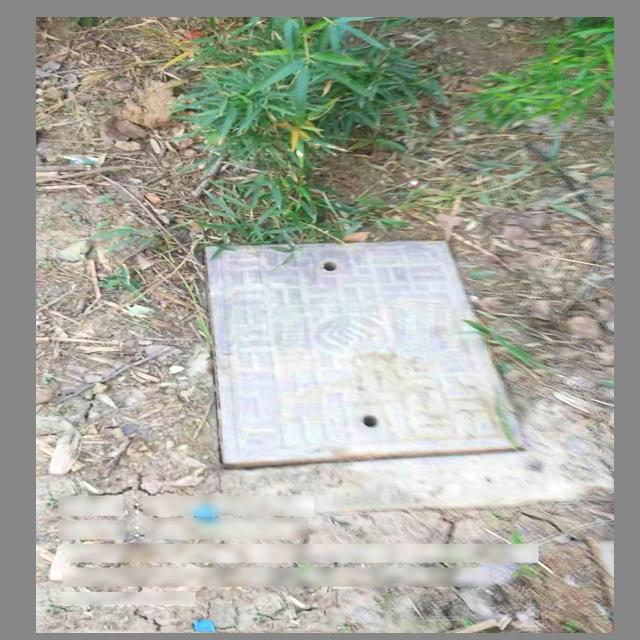good: (202, 238, 527, 471)
